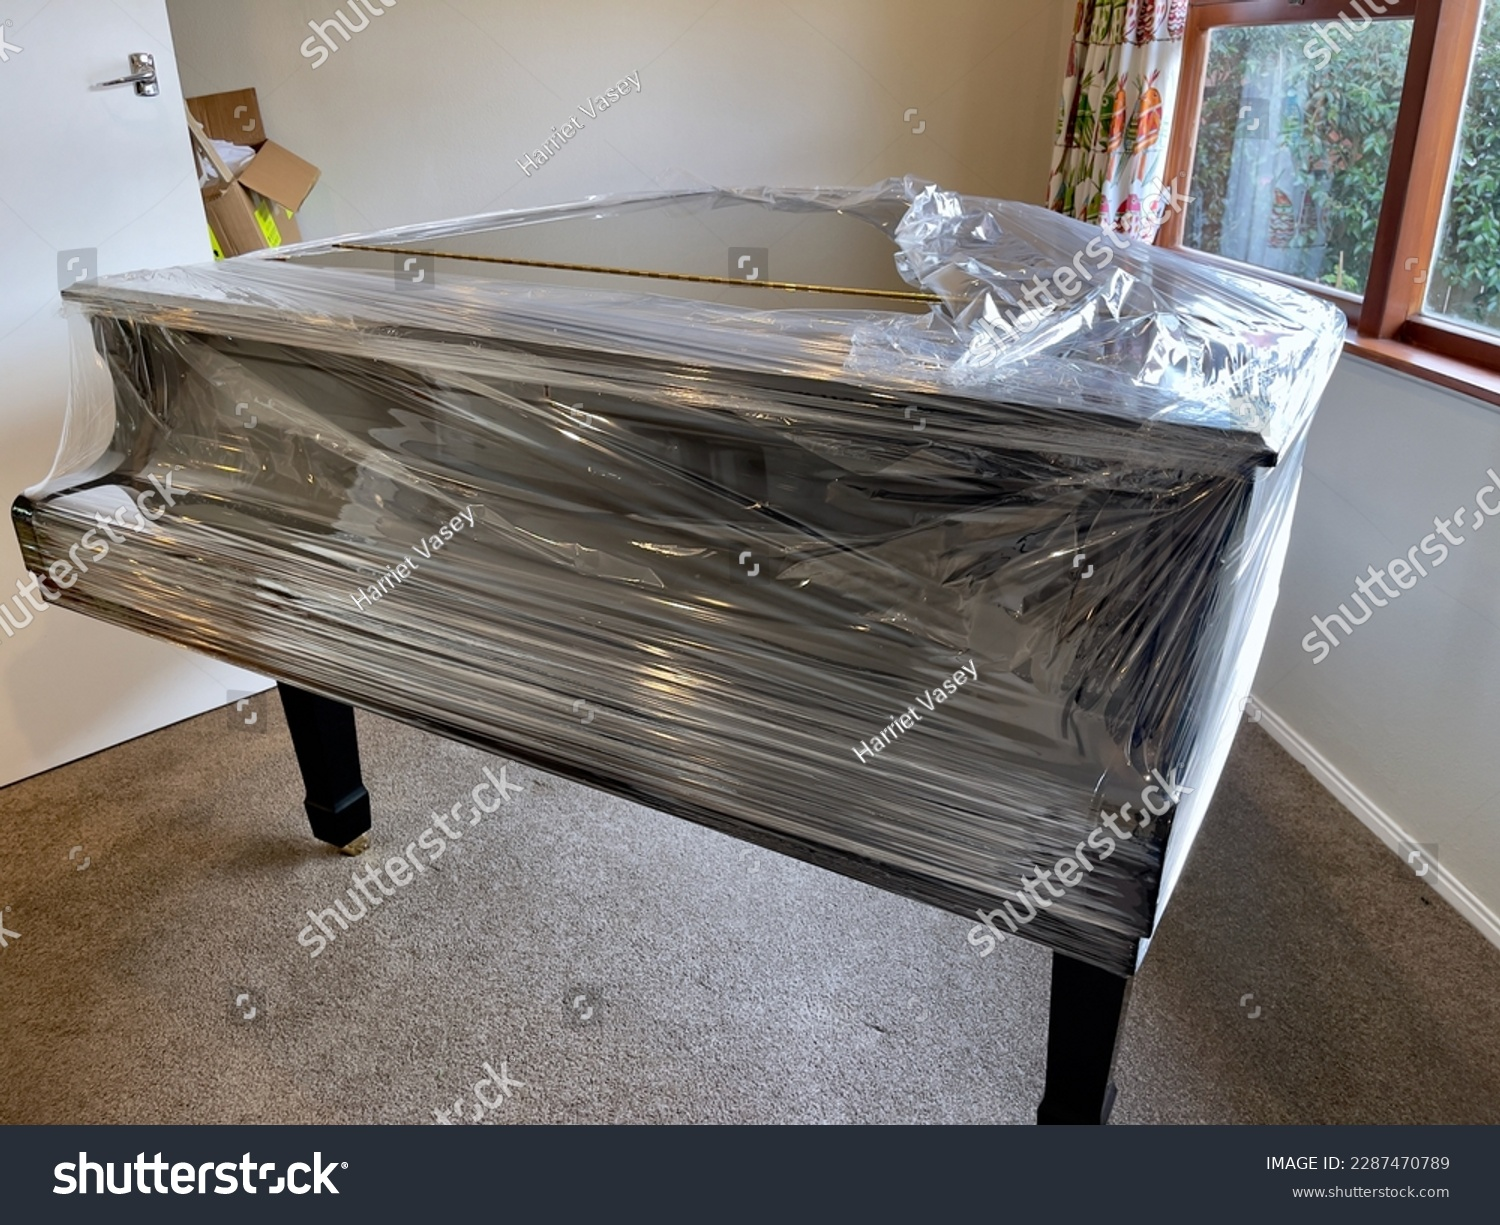Piano: (1, 36, 1418, 970)
